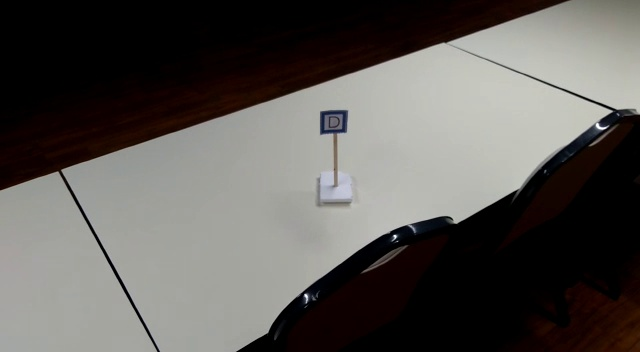durak: (317, 109, 349, 135)
